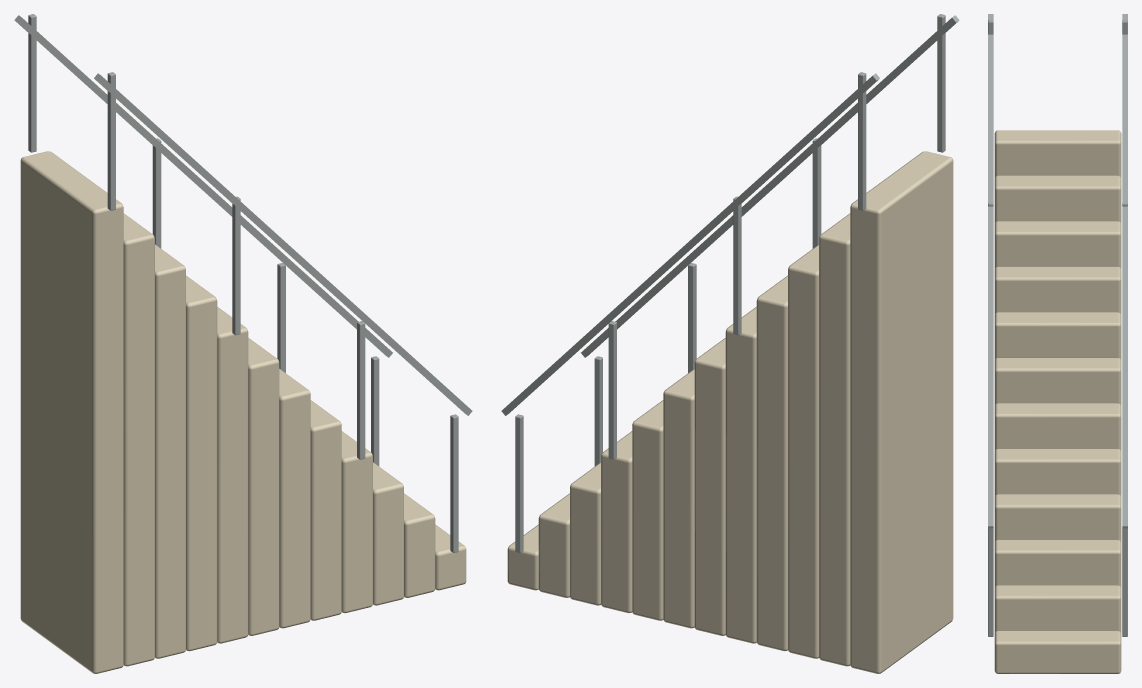
The model's file is indoor-climbing-and-bouldering-gym-indoor-climbing-and-3e3b3a2e__31523.glb.
3 renders of one model, left to right at view 1: azimuth 30°, elevation 25°; view 2: azimuth 150°, elevation 25°; view 3: azimuth 270°, elevation 25°, orthographic. The views are drawn at different scales.
Parts seen in each view (by area): view 1: indoor-climbing-and-bouldering-gym-rear-descent-stair; view 2: indoor-climbing-and-bouldering-gym-rear-descent-stair; view 3: indoor-climbing-and-bouldering-gym-rear-descent-stair.
Part boxes in pixels (left/top/right/bottom): indoor-climbing-and-bouldering-gym-rear-descent-stair: left=14, top=14, right=472, bottom=673; indoor-climbing-and-bouldering-gym-rear-descent-stair: left=501, top=14, right=959, bottom=673; indoor-climbing-and-bouldering-gym-rear-descent-stair: left=988, top=14, right=1127, bottom=673.
Size of the model in its own units: 2.89 by 4.44 by 1.11.
